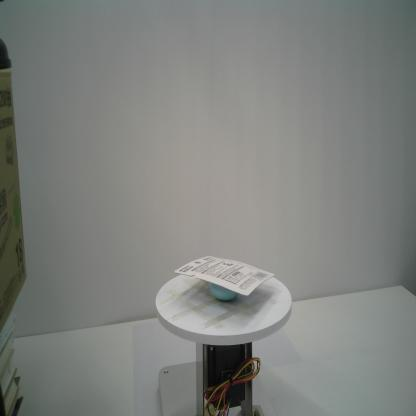Stationery: (174, 255, 275, 301)
